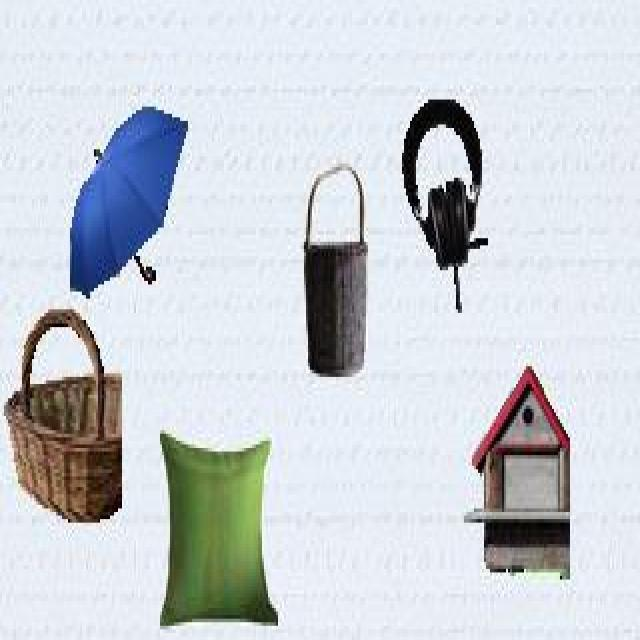Other Objects: (2, 307, 122, 524), (158, 428, 278, 628), (402, 99, 488, 313), (302, 164, 369, 378)
